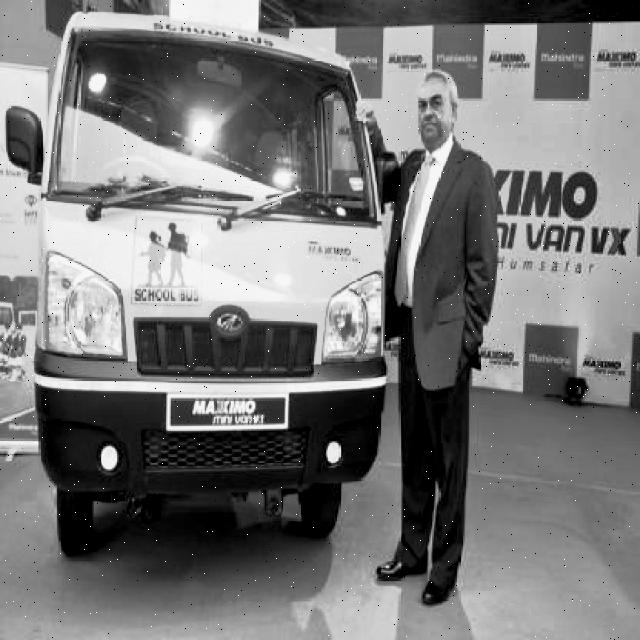LCV: (28, 24, 378, 554)
